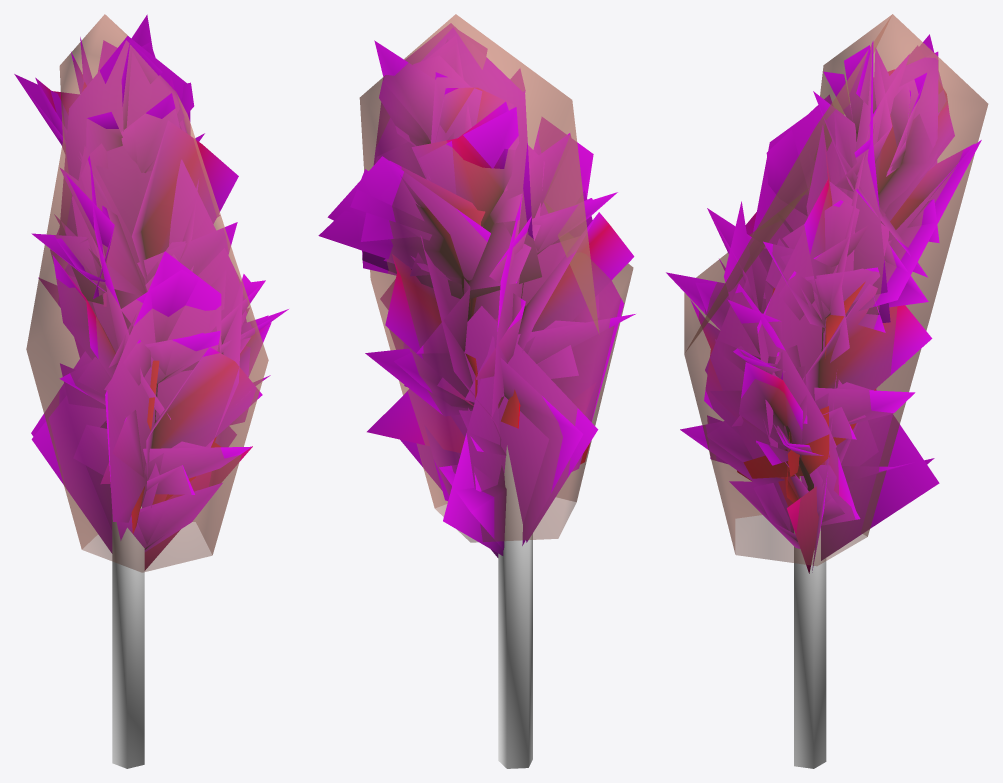
The model's file is tree_aspen_small_b.dae.
The picture shows the model from 3 angles, left to right: view 1: azimuth 30°, elevation 25°; view 2: azimuth 150°, elevation 25°; view 3: azimuth 270°, elevation 25°; orthographic projection. The views are drawn at different scales.
Parts seen in each view (by area): view 1: Colmesh_small02-1, Birch_Small_02_a300, Birch_Small_02_a600; view 2: Colmesh_small02-1, Birch_Small_02_a300, Birch_Small_02_a600; view 3: Colmesh_small02-1, Birch_Small_02_a600, Birch_Small_02_a300.
Part boxes in pixels (<box>): Colmesh_small02-1: <box>26,14,268,768</box>; Birch_Small_02_a300: <box>14,14,288,553</box>; Birch_Small_02_a600: <box>31,40,268,570</box>; Colmesh_small02-1: <box>359,14,633,768</box>; Birch_Small_02_a300: <box>327,23,635,557</box>; Birch_Small_02_a600: <box>318,31,634,549</box>; Colmesh_small02-1: <box>684,14,988,768</box>; Birch_Small_02_a600: <box>690,45,975,573</box>; Birch_Small_02_a300: <box>666,34,981,572</box>.
Size of the model in its own units: 2.05 by 2.38 by 6.16.
